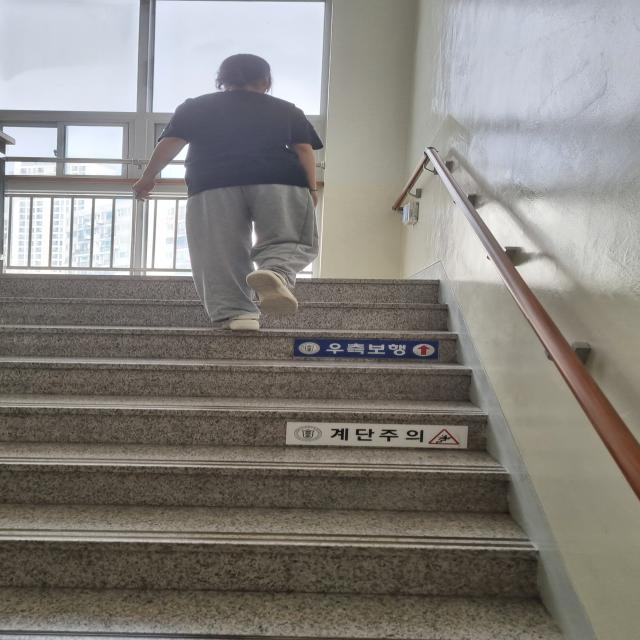logo: (294, 424, 322, 442), (297, 341, 321, 354)
